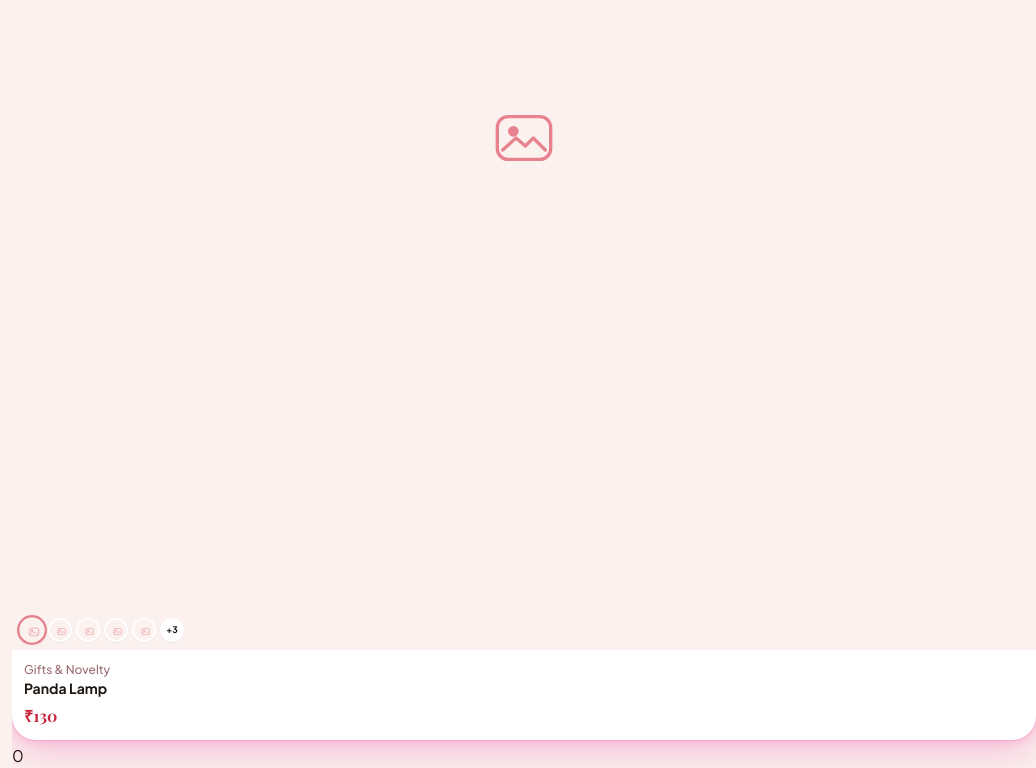
Test: ProductCard — color swatches › "+N" overflow popover › selecting a color from the popover selects that variant and closes the popover
(page scrolled)
Click the button named "Show 3 more colors".
click(172, 630)  # box [160, 618, 184, 642]
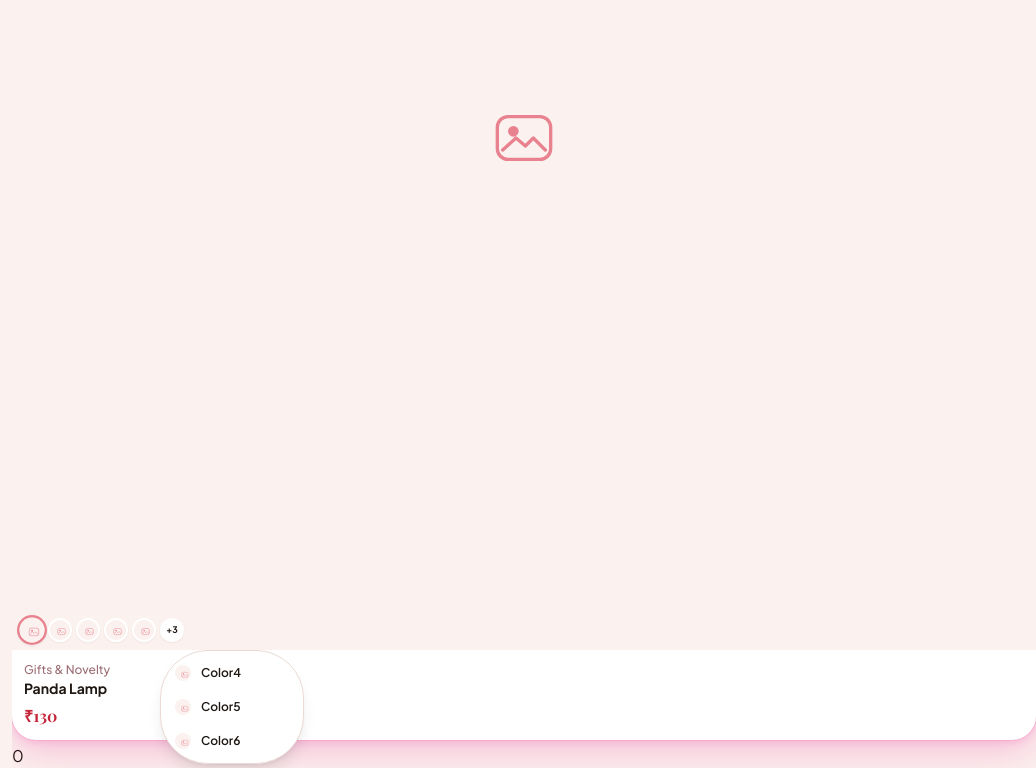
Click the menu item "Color5".
click(232, 707)  # box [167, 691, 297, 723]
(page scrolled)
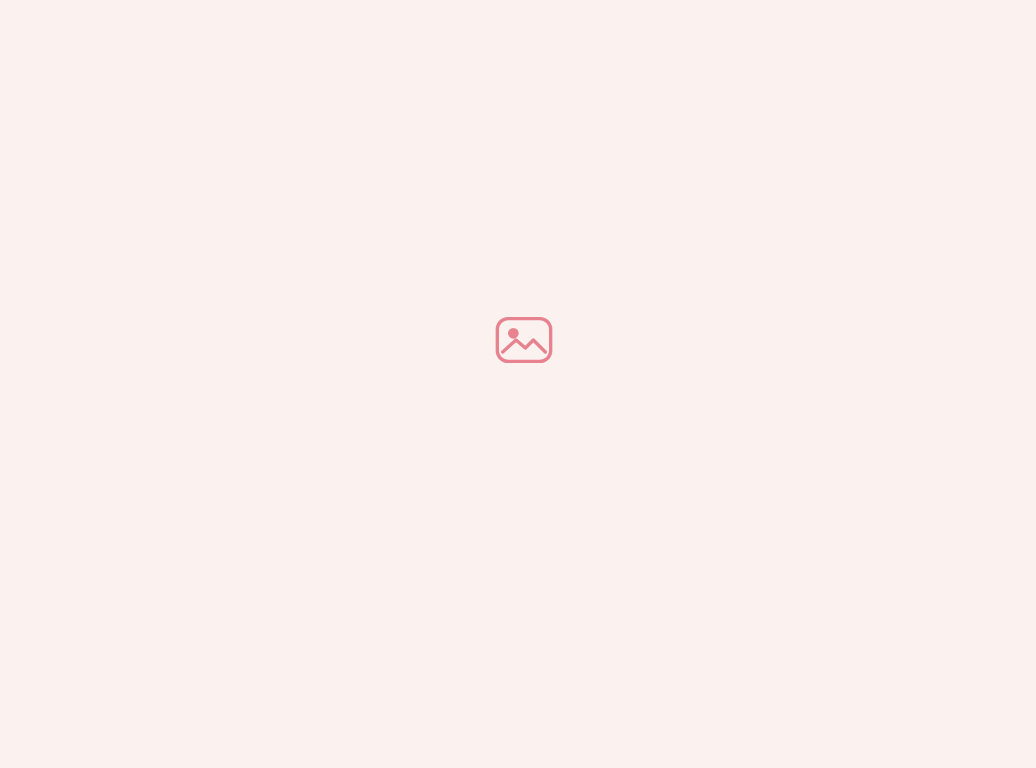
Now the menu is gone
